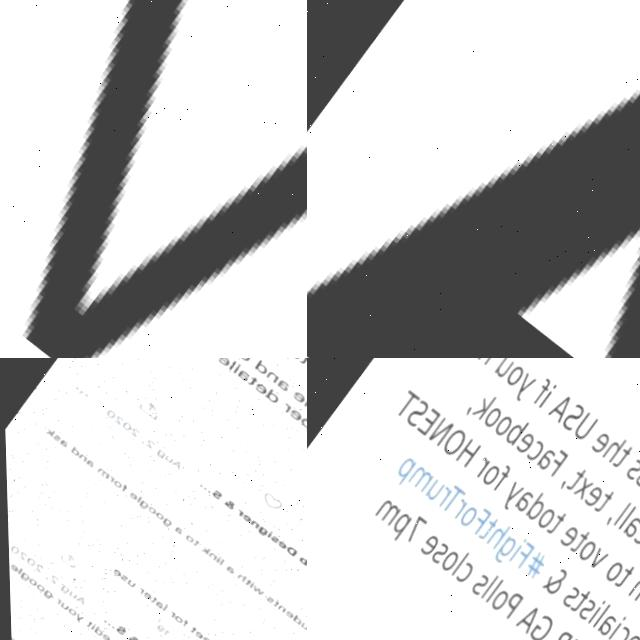3: (400, 511, 427, 543)
5: (152, 620, 164, 631)
A: (307, 0, 640, 358), (511, 597, 541, 631), (545, 386, 575, 419), (592, 605, 617, 634), (510, 483, 534, 512), (533, 441, 556, 470), (618, 507, 640, 536)
B: (502, 410, 529, 444)
C: (448, 553, 475, 585), (523, 434, 546, 460), (607, 616, 631, 640), (628, 515, 640, 543)
D: (522, 486, 551, 519)
E: (413, 403, 441, 436), (415, 529, 440, 558), (587, 424, 612, 452), (511, 425, 536, 453), (555, 518, 580, 546), (580, 477, 604, 506), (554, 630, 583, 640)
F: (542, 442, 570, 476), (507, 535, 535, 568), (486, 459, 512, 491), (465, 502, 491, 534), (529, 371, 554, 402)
G: (523, 606, 555, 640), (488, 529, 518, 563)
H: (452, 434, 481, 467), (599, 427, 626, 459), (483, 516, 510, 548)
I: (583, 592, 605, 621), (603, 608, 625, 637), (505, 533, 526, 560), (537, 379, 556, 405)
K: (469, 385, 496, 418)
L: (475, 568, 499, 600), (445, 545, 469, 577), (480, 573, 503, 602), (609, 494, 631, 522), (588, 596, 610, 624), (615, 499, 636, 526)
M: (403, 460, 434, 492), (371, 494, 400, 525), (623, 570, 640, 602)
N: (425, 413, 453, 446)
O: (436, 421, 469, 458), (600, 552, 624, 581), (501, 358, 525, 385), (490, 409, 514, 436), (480, 401, 503, 428), (487, 583, 509, 610), (574, 533, 596, 559), (533, 501, 555, 527), (478, 459, 500, 485), (437, 545, 459, 571), (456, 500, 478, 525), (617, 624, 640, 640)
P: (388, 451, 417, 485), (383, 507, 412, 541), (495, 584, 522, 618)
R: (541, 622, 571, 640), (470, 452, 490, 476), (432, 481, 452, 505), (448, 493, 467, 517)
S: (402, 394, 431, 428), (557, 396, 585, 429), (466, 568, 490, 595), (557, 579, 579, 604), (574, 592, 596, 617), (427, 538, 449, 563), (621, 449, 640, 476), (630, 458, 640, 484)
T: (390, 385, 421, 421), (437, 480, 466, 514), (473, 509, 500, 540), (589, 480, 615, 511), (609, 436, 634, 467), (562, 459, 587, 490), (565, 581, 590, 612), (542, 503, 567, 533), (566, 522, 590, 552), (610, 556, 634, 586)
U: (569, 405, 598, 439), (423, 474, 445, 501), (490, 358, 514, 377)
V: (0, 0, 307, 358), (584, 541, 608, 568)
X: (570, 468, 595, 498)
Y: (508, 366, 538, 401), (494, 475, 524, 510)
